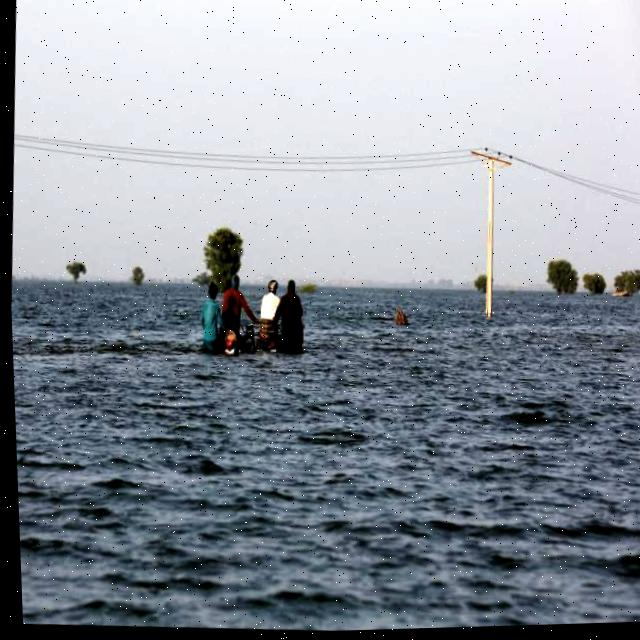civilian: (195, 273, 225, 355), (253, 275, 287, 347), (279, 276, 310, 346), (222, 276, 251, 346)
